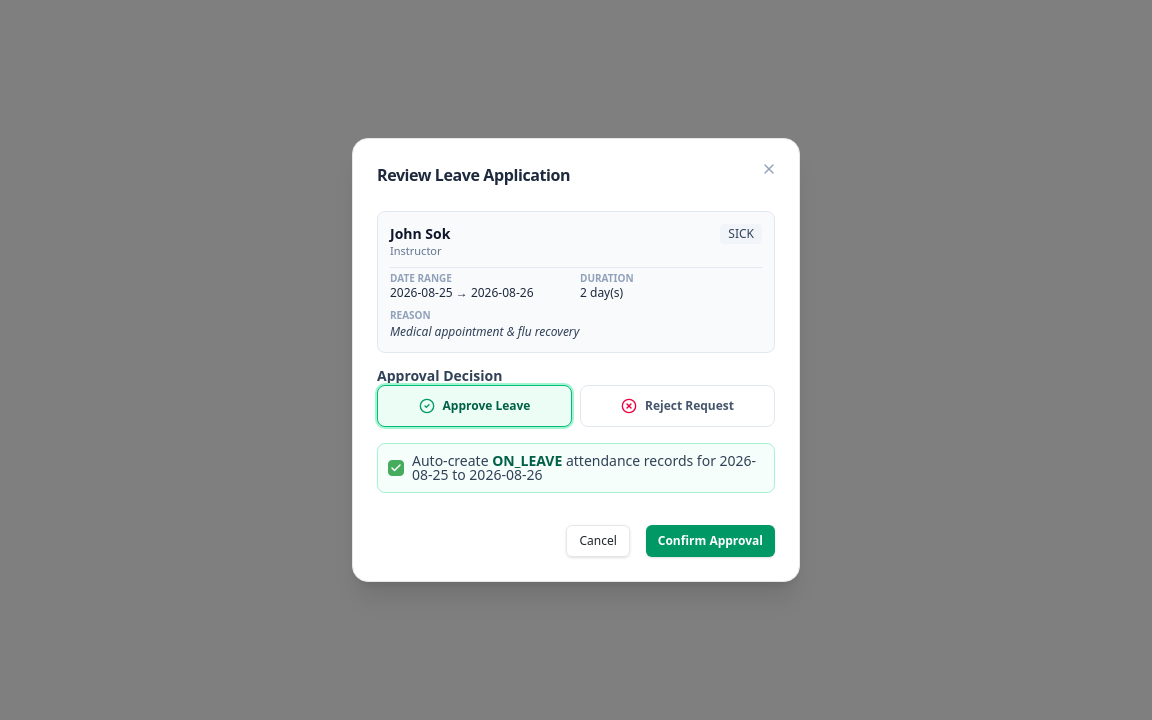
Test: ReviewLeaveDialog › shows rejection reason field when decision is REJECTED
The width and height of the screenshot is (1152, 720).
Step 1. Click the button "Reject Request" → click(678, 406), box [580,385,775,427]
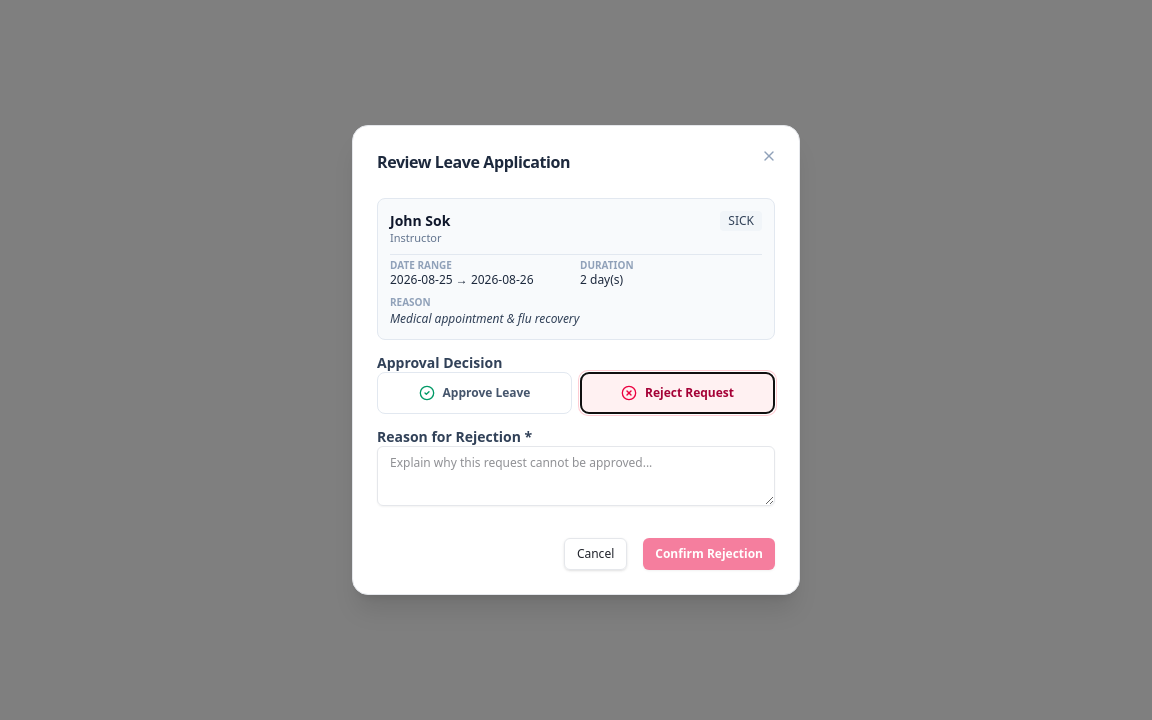
Now the text "Reason for Rejection *" is shown, box [377,427,532,446]
Now the text box with placeholder "Explain why this request cannot be approved..." is shown, box [377,446,775,506]
